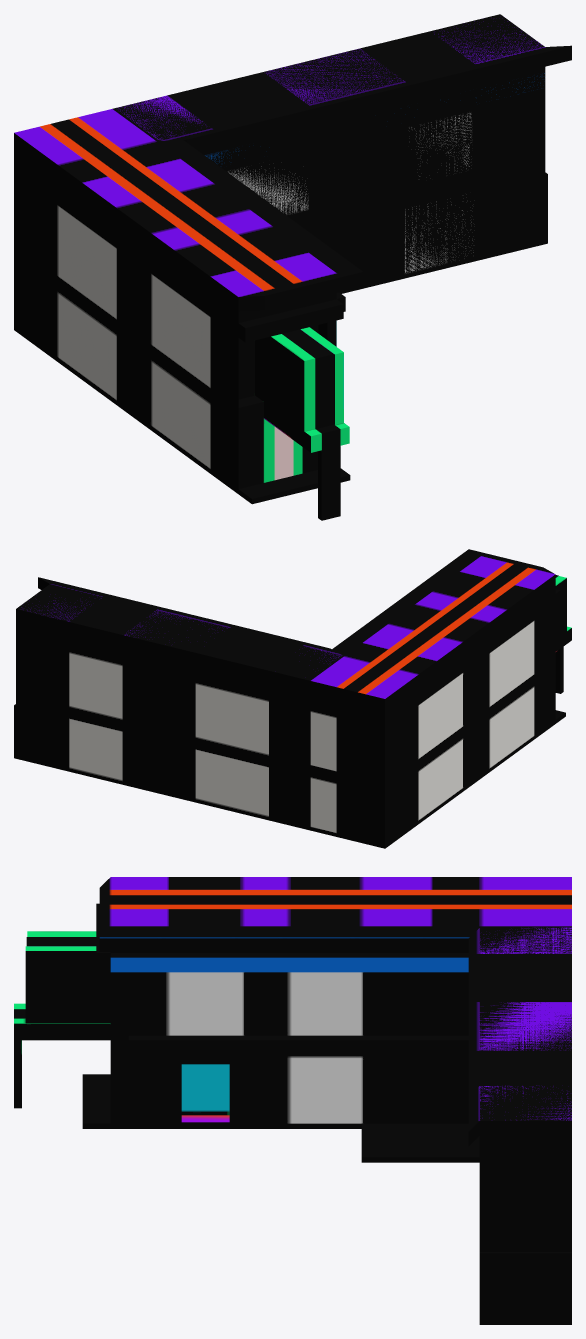
The model's file is house no 6 do 7.fbx.
The picture shows the model from 3 angles, top to bottom: view 1: azimuth 30°, elevation 25°; view 2: azimuth 150°, elevation 25°; view 3: azimuth 270°, elevation 25°; orthographic projection. The views are drawn at different scales.
Parts seen in each view (by area): view 1: Cube; view 2: Cube; view 3: Cube.
Part boxes in pixels (x1,y1,x2,y2): Cube: [14, 14, 571, 520]; Cube: [14, 549, 571, 848]; Cube: [14, 877, 571, 1324].
Bounding box in the file's own units: 4213 × 1571 × 3902.
